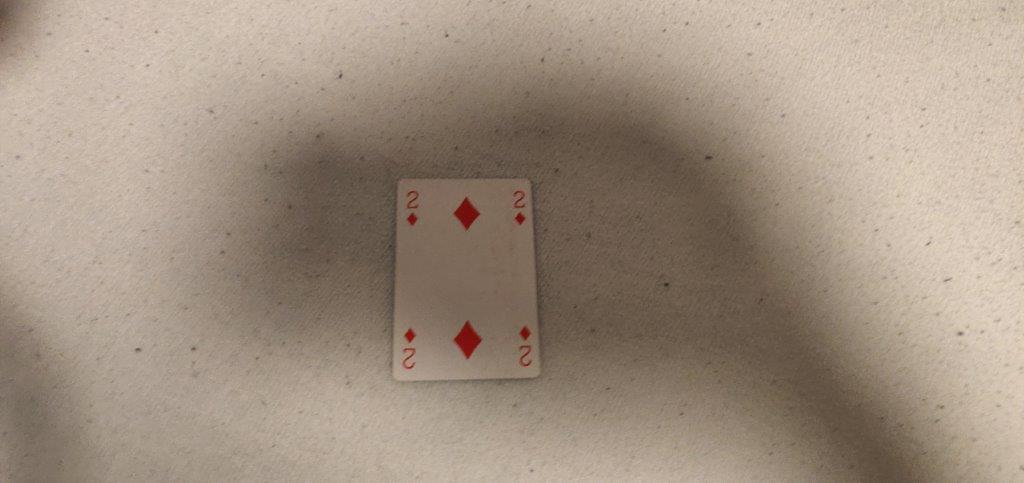2D: (398, 191, 425, 233), (511, 189, 531, 230)
